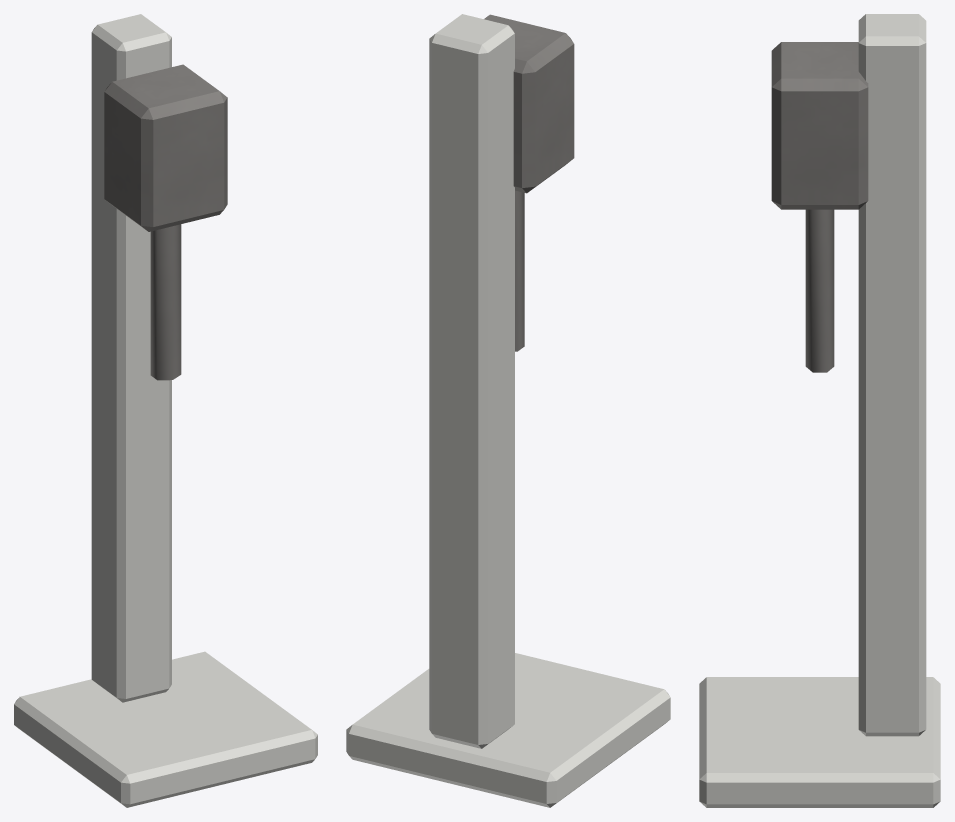
The model's file is ax_rover_23_coring_drill.glb.
3 views of the same model, side by side, from view 1: azimuth 30°, elevation 25°; view 2: azimuth 150°, elevation 25°; view 3: azimuth 270°, elevation 25° (orthographic). The views are drawn at different scales.
Parts seen in each view (by area): view 1: mast, base_plate, drill_head; view 2: mast, base_plate, drill_head; view 3: mast, base_plate, drill_head.
Part boxes in pixels (x1,y1,x2,y2): mast: (91,14,171,702); base_plate: (14,651,317,807); drill_head: (104,64,227,380); mast: (429,14,514,748); base_plate: (346,653,670,807); drill_head: (484,14,574,351); mast: (858,14,926,736); base_plate: (699,677,940,807); drill_head: (771,42,868,372).
Size of the model in its own units: 0.5 by 1.68 by 0.5.
2 materials, 1 textured.
